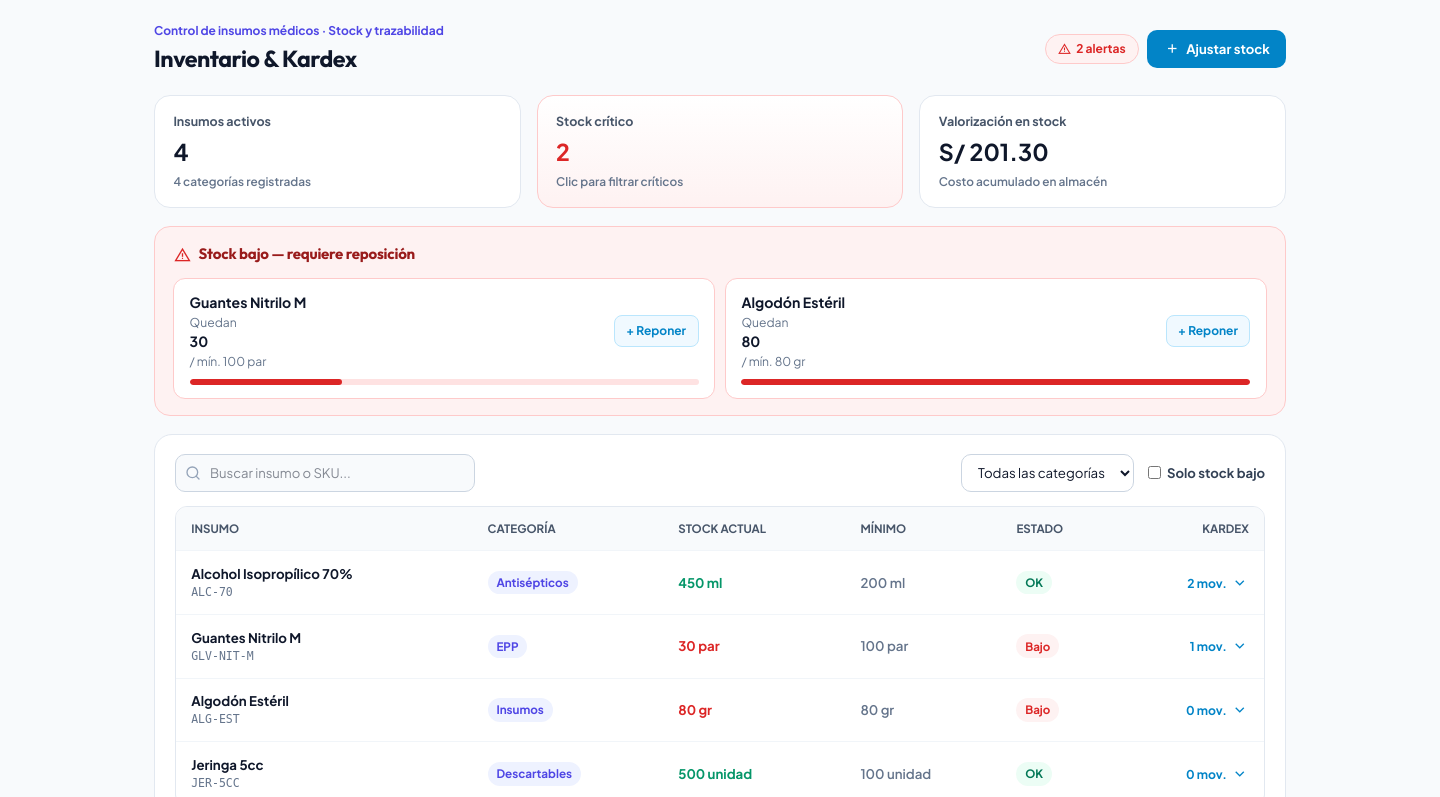
InventoryPage › should show movement form when clicking Ajustar Stock button
Click the button with id "btn-new-movement".
click(1217, 49)  # box [1148,30,1286,68]
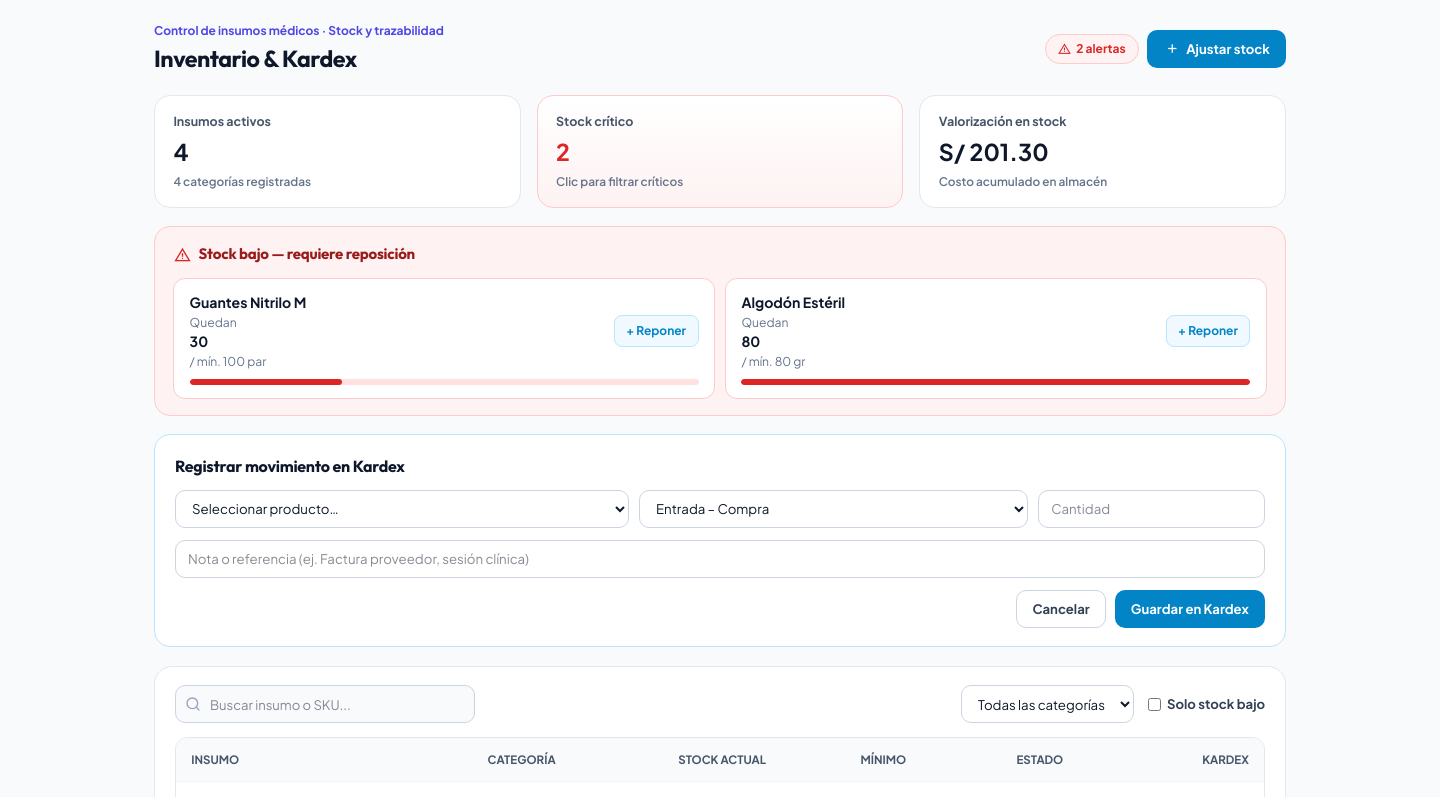
Expected: the dropdown with id "mov-product" is shown, [175,490,629,528]
Expected: the dropdown with id "mov-type" is shown, [639,490,1028,528]
Expected: the number field with id "mov-quantity" is shown, [1038,490,1265,528]
